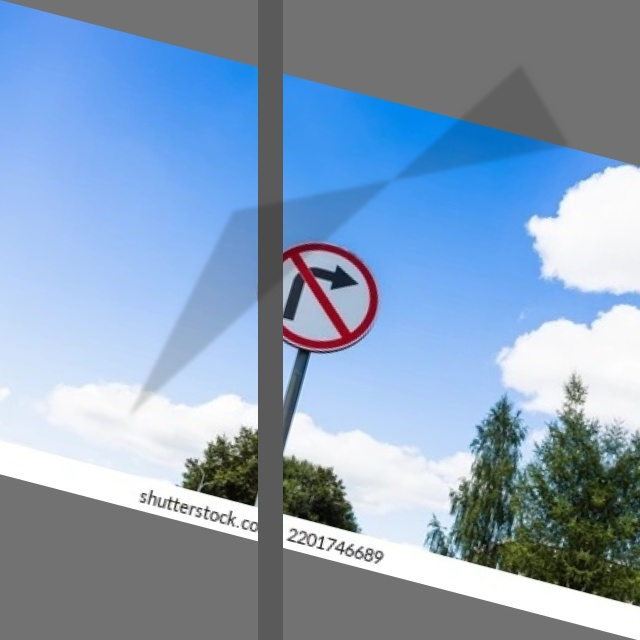Right_Turn_Prohibited: (246, 227, 391, 368)
